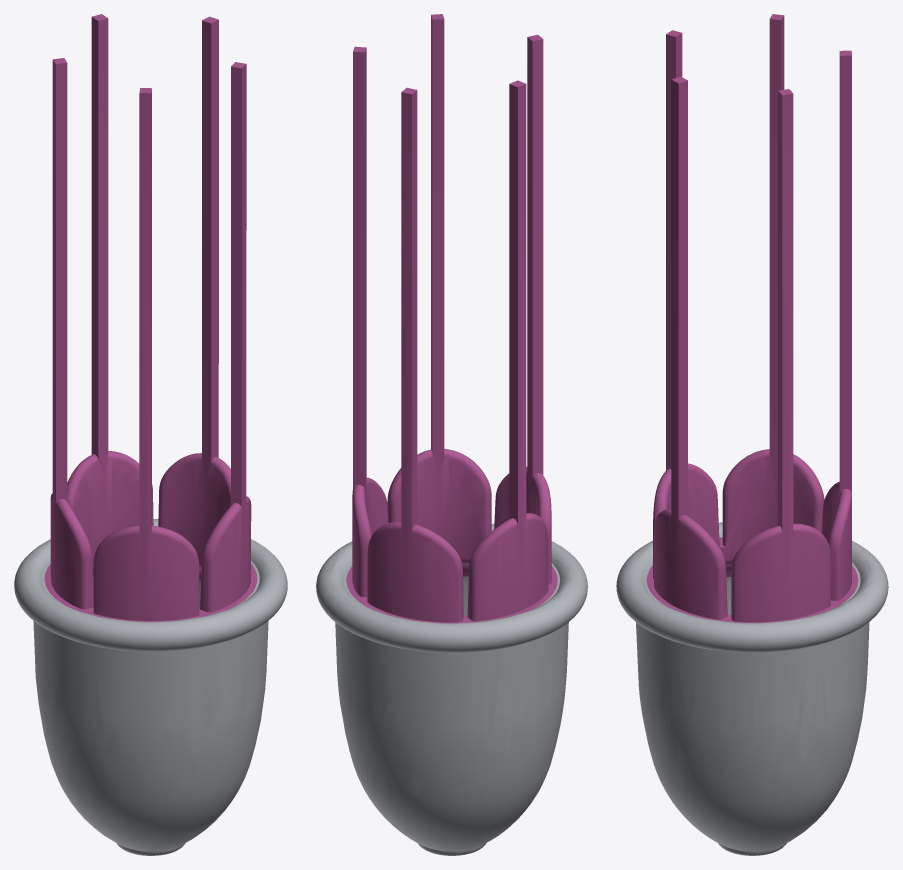
Rendered from concept-flower-high.glb.
The picture shows the model from 3 angles, left to right: view 1: azimuth 30°, elevation 25°; view 2: azimuth 150°, elevation 25°; view 3: azimuth 270°, elevation 25°; orthographic projection.
Parts seen in each view (by area): view 1: flower-cup-withrim-higher-0-mechanism, flower-cup-withrim-higher-0-body; view 2: flower-cup-withrim-higher-0-mechanism, flower-cup-withrim-higher-0-body; view 3: flower-cup-withrim-higher-0-mechanism, flower-cup-withrim-higher-0-body.
Part boxes in pixels (box(x1,y1,x2,y2)): flower-cup-withrim-higher-0-mechanism: box(44, 14, 257, 621); flower-cup-withrim-higher-0-body: box(14, 519, 287, 855); flower-cup-withrim-higher-0-mechanism: box(346, 14, 557, 623); flower-cup-withrim-higher-0-body: box(316, 523, 587, 855); flower-cup-withrim-higher-0-mechanism: box(646, 14, 858, 622); flower-cup-withrim-higher-0-body: box(616, 522, 888, 855).
Bounding box in the file's own units: 0.046 × 0.147 × 0.046.
